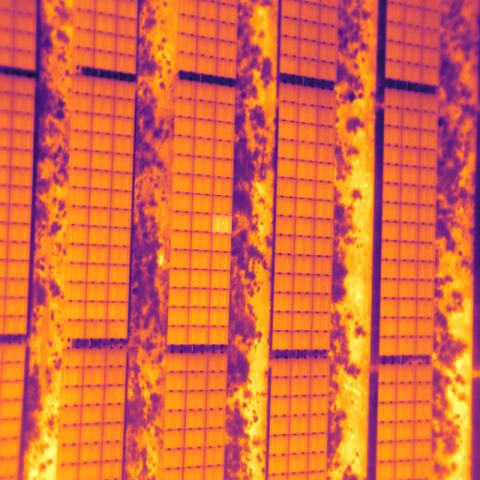fault: (212, 214, 232, 234)
